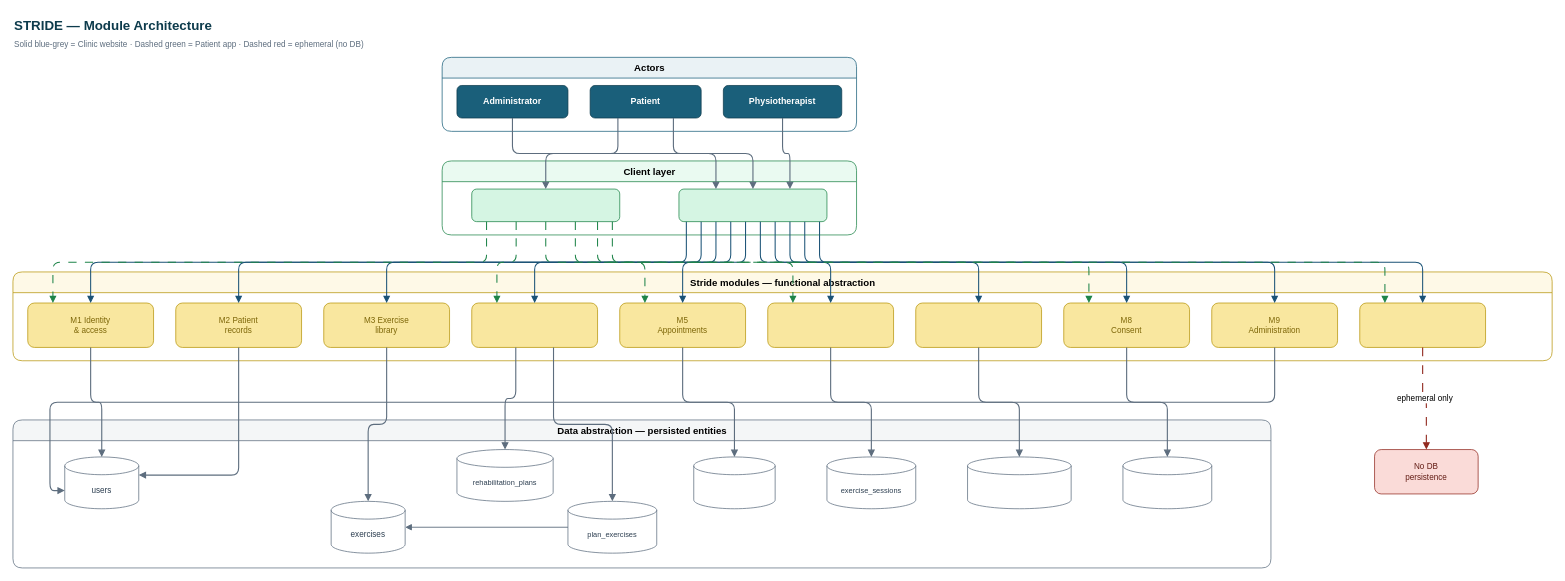
The diagram is 1565 pixels wide and 581 high, and some of its shapes have lost their labels. Here are the shapes that lost their labels. From the top down, the centre of each, then its label:
At (545,205): "Patient phone app".
At (752,205): "Clinic website".
At (534,324): "M4 Rehabilitation plans".
At (830,324): "M6 Exercise sessions".
At (978,324): "M7 Movement observations".
At (1422,324): "M10 Video consult".
At (734,482): "appointments".
At (1019,482): "movement_observations".
At (1167,482): "consent_records".
